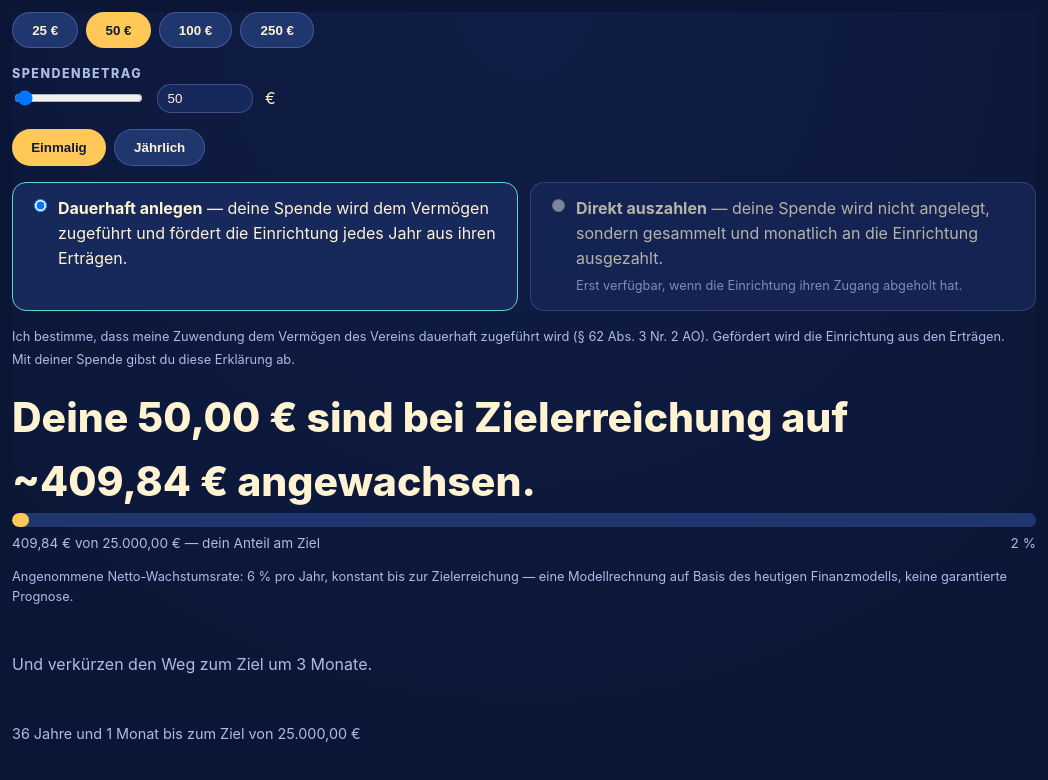
Test case: SpendenRechner › setzt den Spendenbetrag beim Klick auf einen Preset-Button
What coordinates should you click on to do the following:
click the button "250 €"
I would click on:
 (277, 30)
Its box is [240,12,314,48].
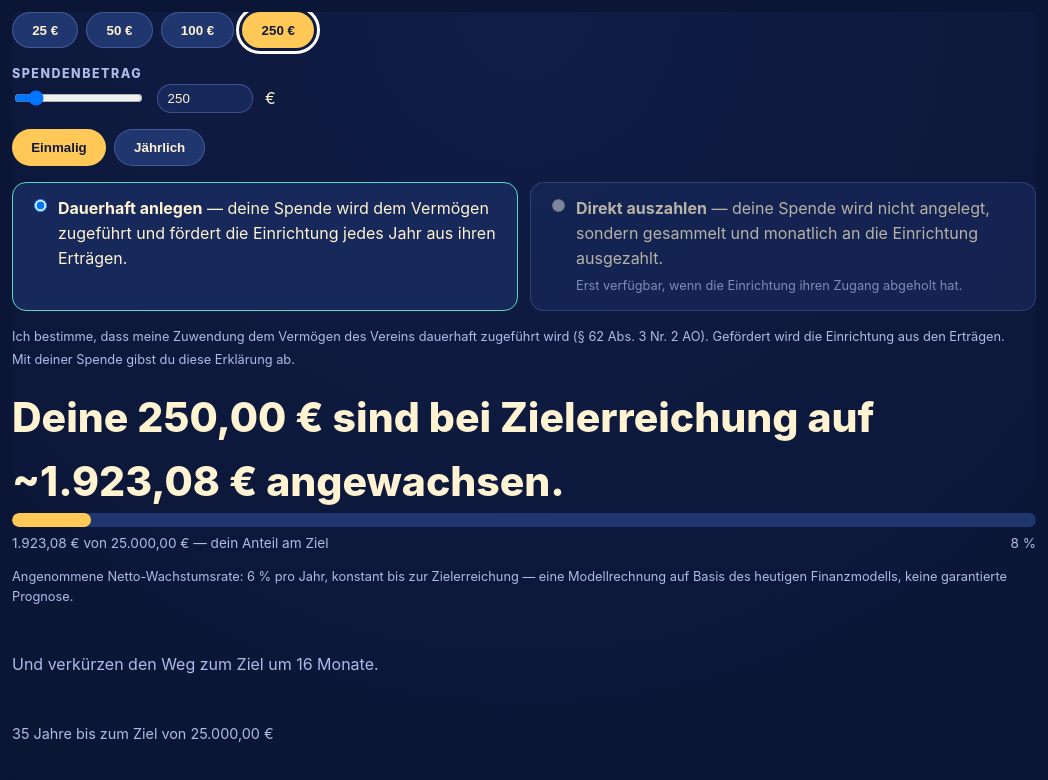
Expected: the number field named "Spendenbetrag" holds "250", [157,84,253,113]
